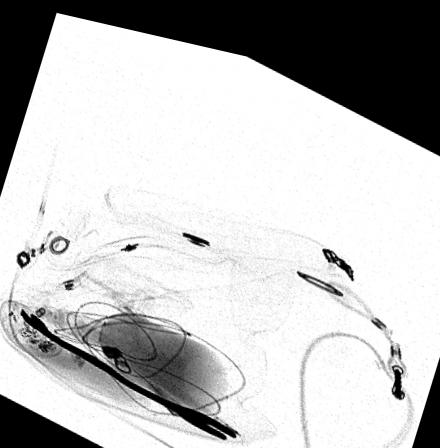Wrench: (16, 302, 239, 430)
